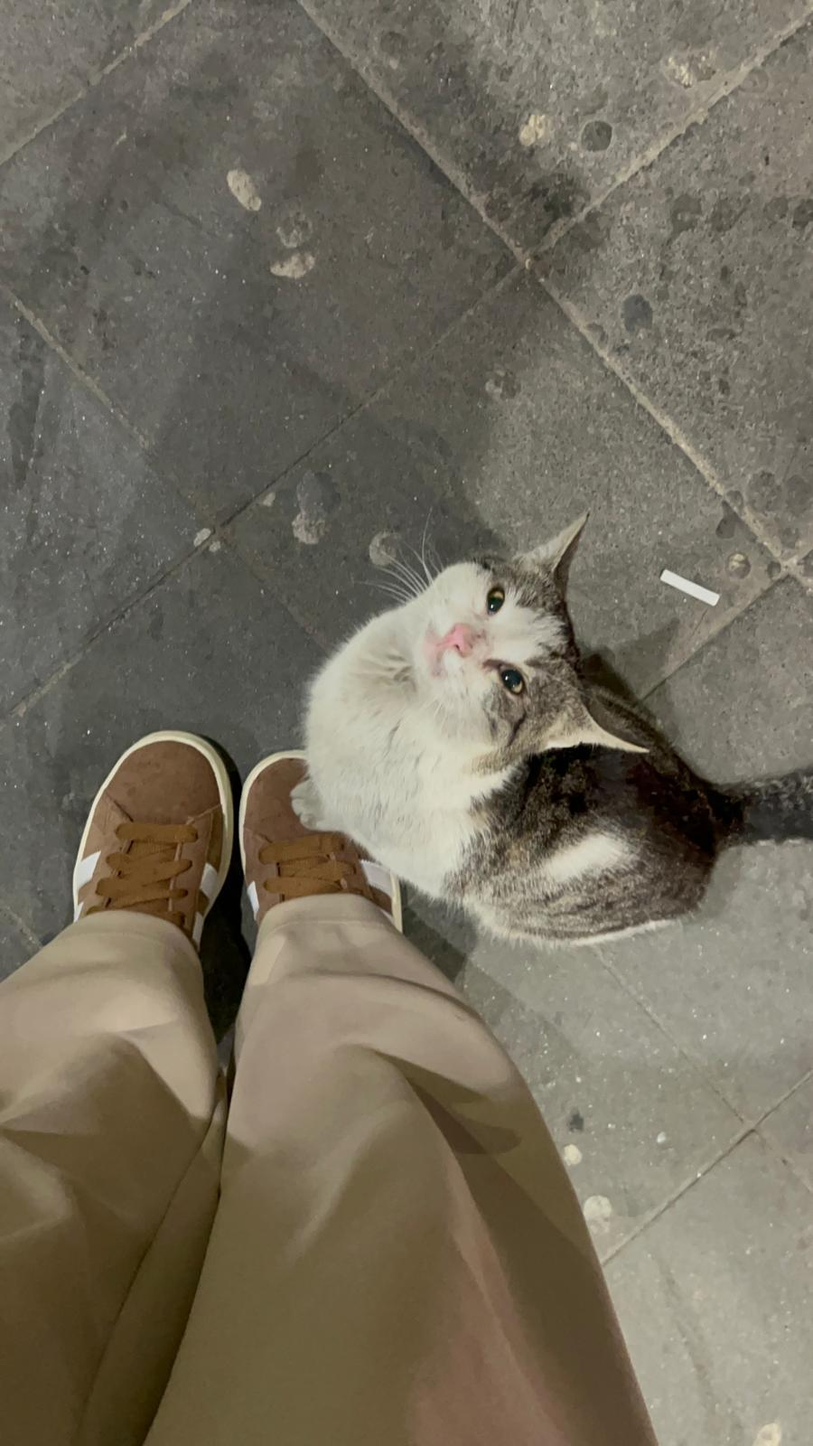macka: (289, 507, 812, 950)
